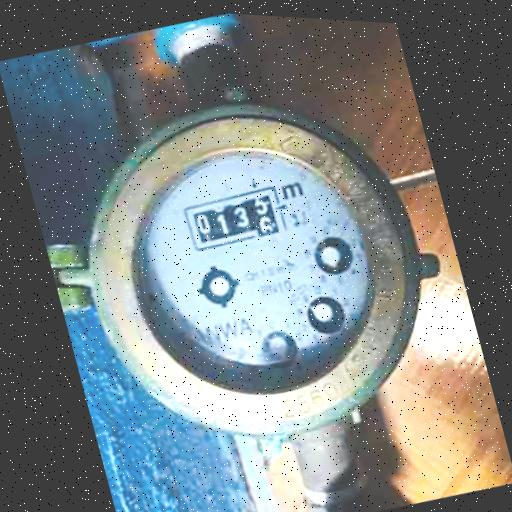0: (191, 207, 218, 243)
1: (209, 203, 236, 239)
3: (226, 198, 257, 235)
5: (249, 193, 279, 237)
border_water_meter_number: (181, 179, 288, 257)
